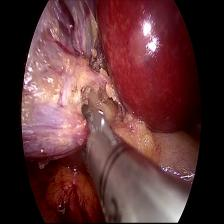Clipper: (77, 103, 119, 185)
